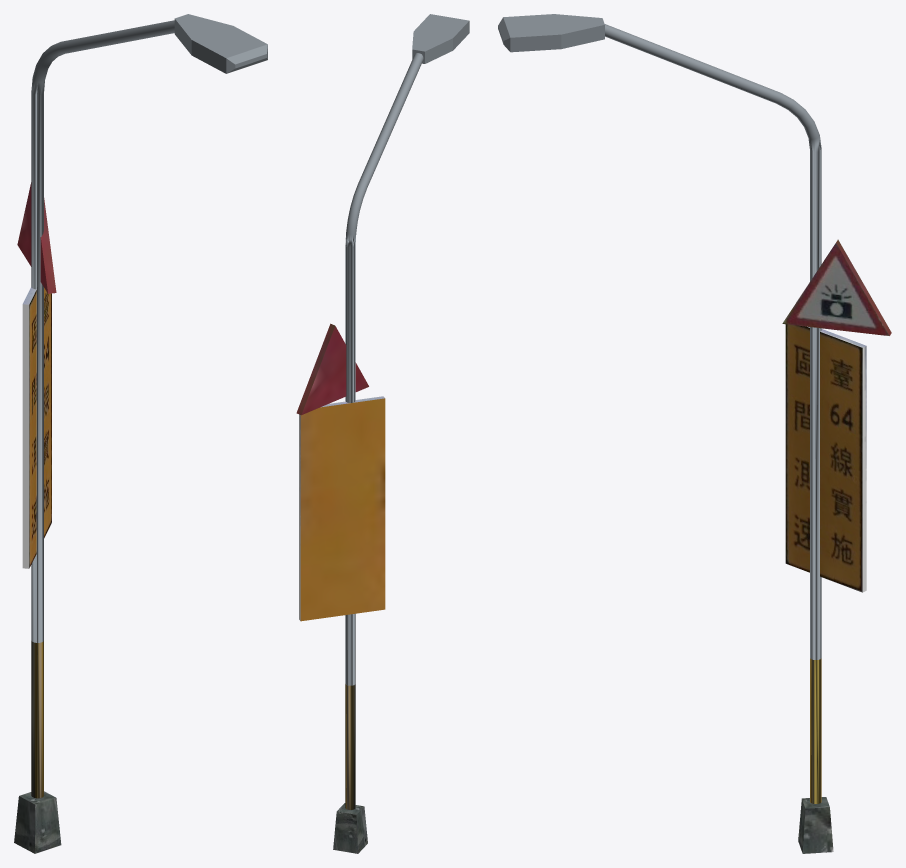
The model's file is LightLamp3.fbx.
The picture shows the model from 3 angles, left to right: view 1: azimuth 30°, elevation 25°; view 2: azimuth 150°, elevation 25°; view 3: azimuth 270°, elevation 25°; orthographic projection. The views are drawn at different scales.
Parts seen in each view (by area): view 1: LightLamp3, Sign1; view 2: Sign1, LightLamp3; view 3: Sign1, LightLamp3.
Boxes of the visible parts, x1,y1,x2,y2 form: LightLamp3: (14,14,267,853); Sign1: (17,182,56,568); Sign1: (296,323,385,621); LightLamp3: (333,14,469,853); Sign1: (782,239,891,592); LightLamp3: (498,14,833,853).
Bounding box in the file's own units: 0.6307 × 5.76 × 2.45.
2 materials, 2 textured.
